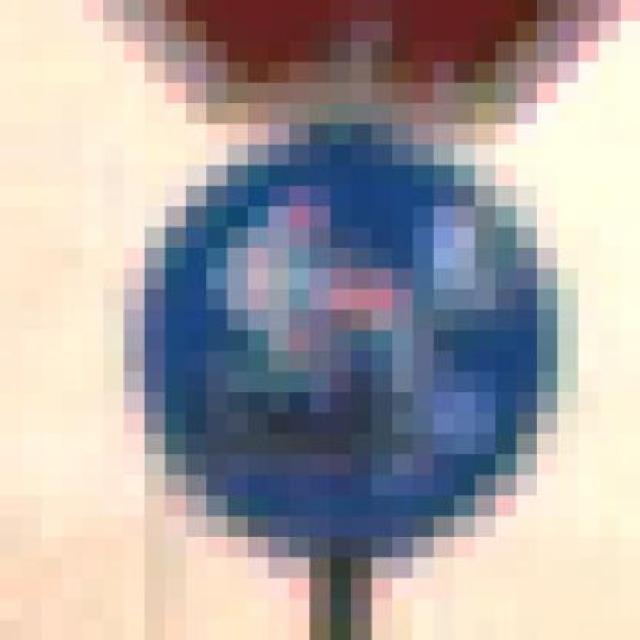Turn left ahead: (103, 82, 557, 558)
